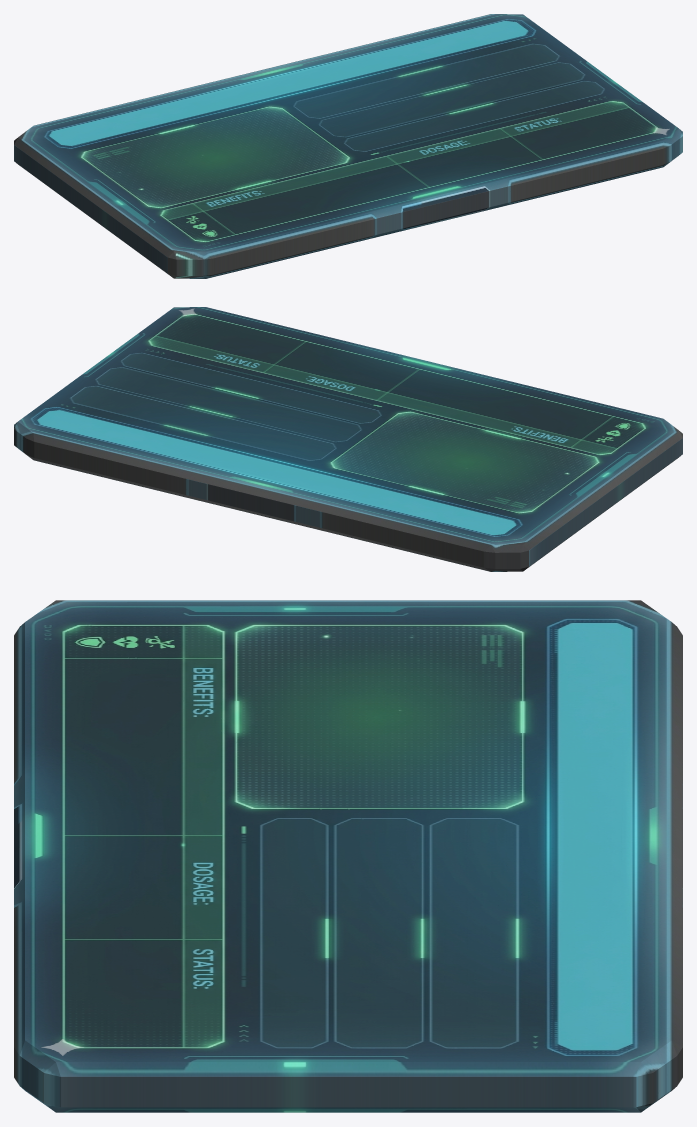
File: Panel.fbx
The picture shows the model from 3 angles, top to bottom: view 1: azimuth 30°, elevation 25°; view 2: azimuth 150°, elevation 25°; view 3: azimuth 270°, elevation 25°; orthographic projection. The views are drawn at different scales.
Parts seen in each view (by area): view 1: Plane; view 2: Plane; view 3: Plane.
Part boxes in pixels (x1,y1,x2,y2): Plane: [14, 14, 682, 278]; Plane: [14, 307, 682, 571]; Plane: [14, 600, 682, 1112].
Bounding box in the file's own units: 20 × 1 × 12.
